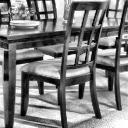chair_success: (17, 0, 115, 128)
